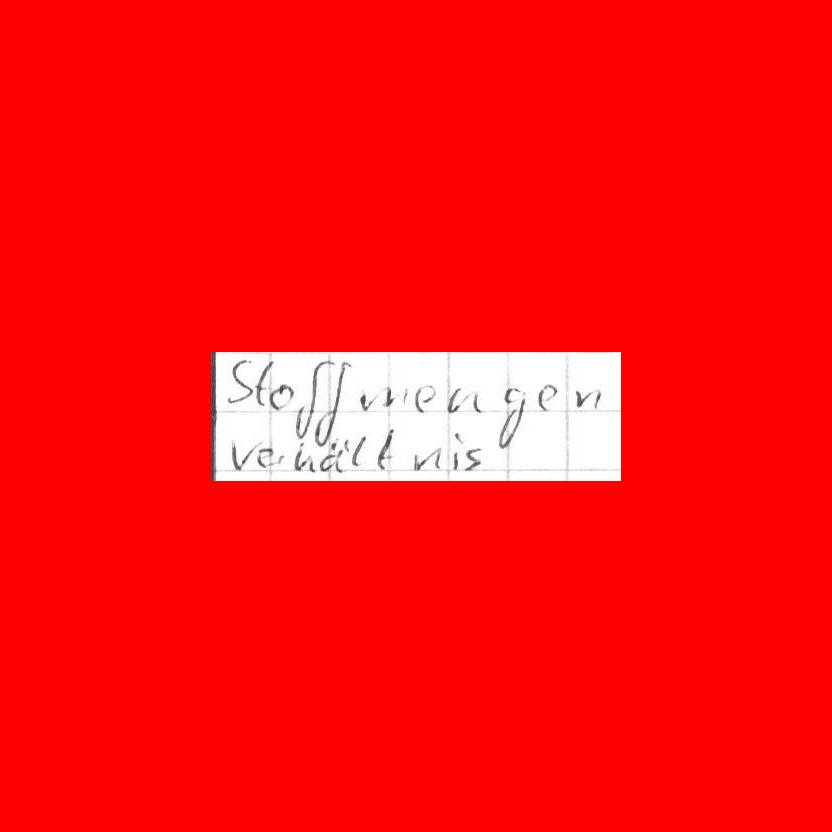Char: (317, 364, 353, 444), (292, 357, 326, 438), (494, 382, 526, 452), (227, 357, 267, 407), (318, 437, 351, 475), (375, 427, 397, 473), (446, 386, 482, 413), (411, 443, 443, 472), (357, 384, 390, 412), (229, 438, 252, 472), (268, 381, 293, 412), (413, 382, 437, 414), (573, 385, 601, 411), (535, 382, 559, 412), (462, 441, 485, 470), (292, 442, 314, 472), (350, 434, 368, 467), (256, 443, 276, 469), (450, 432, 462, 470), (394, 384, 411, 410), (274, 453, 286, 466)
